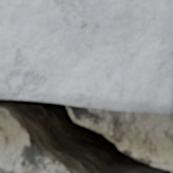brick: (0, 0, 172, 112)
crack: (0, 98, 172, 172)
